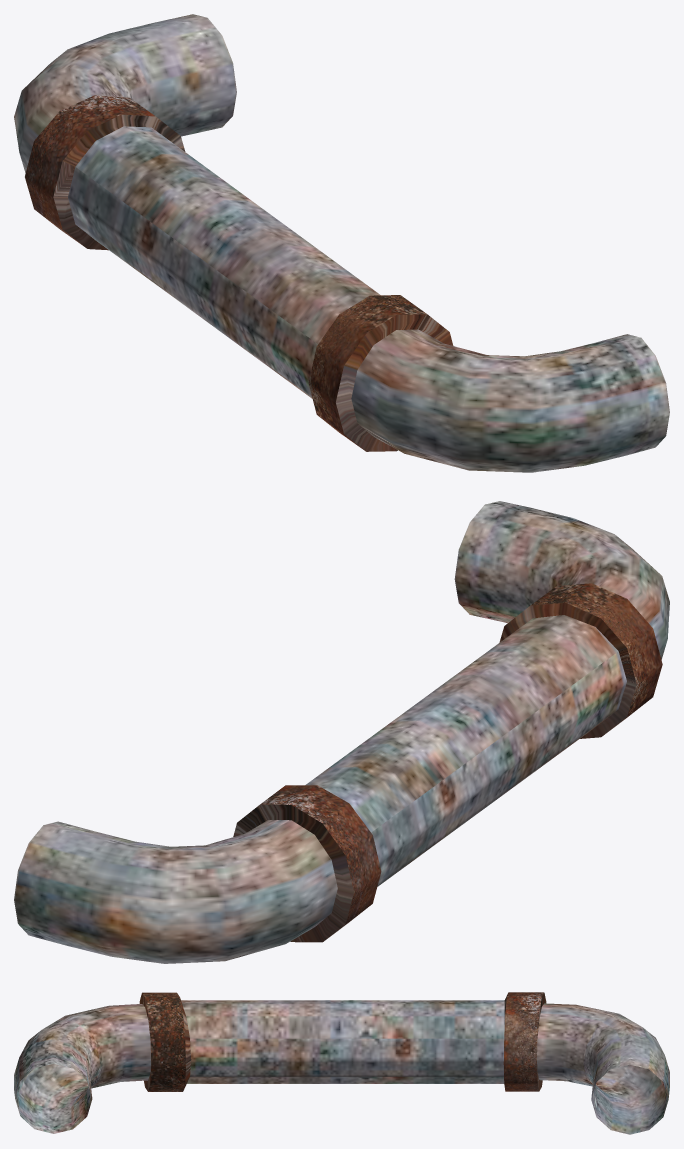
Rendered from TPE 1_FBX.fbx.
3 renders of one model, top to bottom at view 1: azimuth 30°, elevation 25°; view 2: azimuth 150°, elevation 25°; view 3: azimuth 270°, elevation 25°, orthographic. The views are drawn at different scales.
Visible parts, largest first — view 1: Tubería plataforma estática larga 1; view 2: Tubería plataforma estática larga 1; view 3: Tubería plataforma estática larga 1.
Boxes of the visible parts, <box> form: Tubería plataforma estática larga 1: <box>14,14,669,472</box>; Tubería plataforma estática larga 1: <box>14,501,669,963</box>; Tubería plataforma estática larga 1: <box>14,992,669,1134</box>.
Bounding box in the file's own units: 335 × 177 × 1171.
